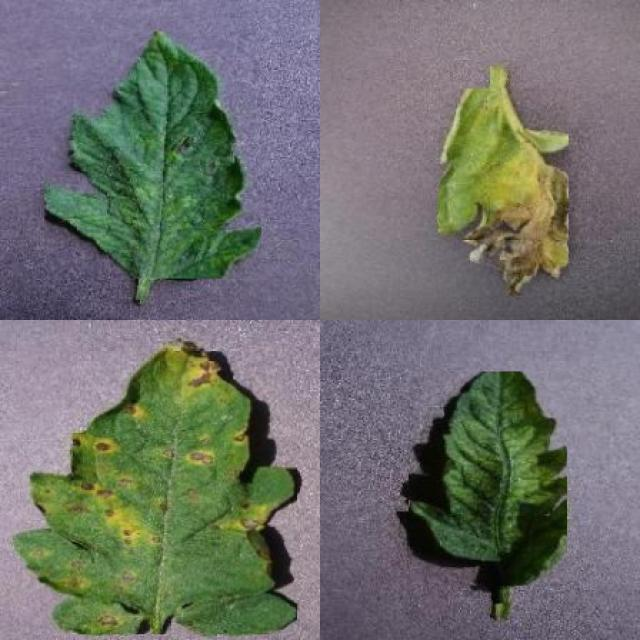Late Blight: (438, 89, 568, 297)
Mosaic Virus: (45, 32, 262, 278), (409, 371, 567, 586)
Septoria: (14, 335, 297, 635)
